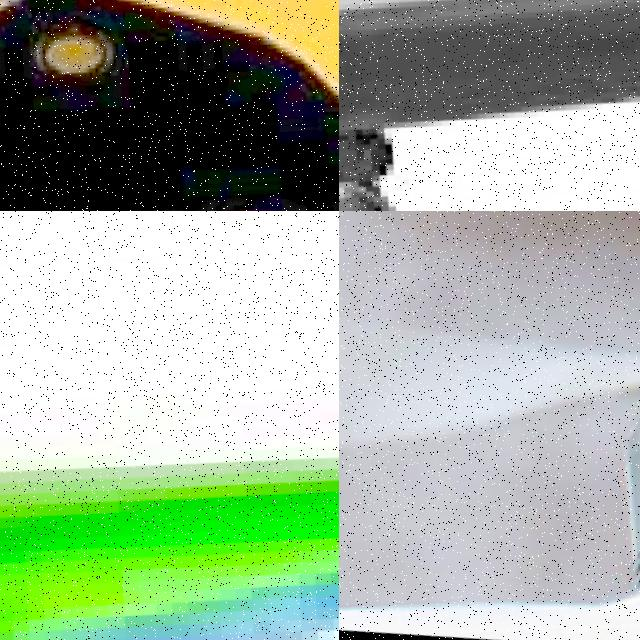drone: (0, 211, 339, 640), (339, 211, 640, 640), (0, 0, 339, 211), (339, 0, 640, 211)
